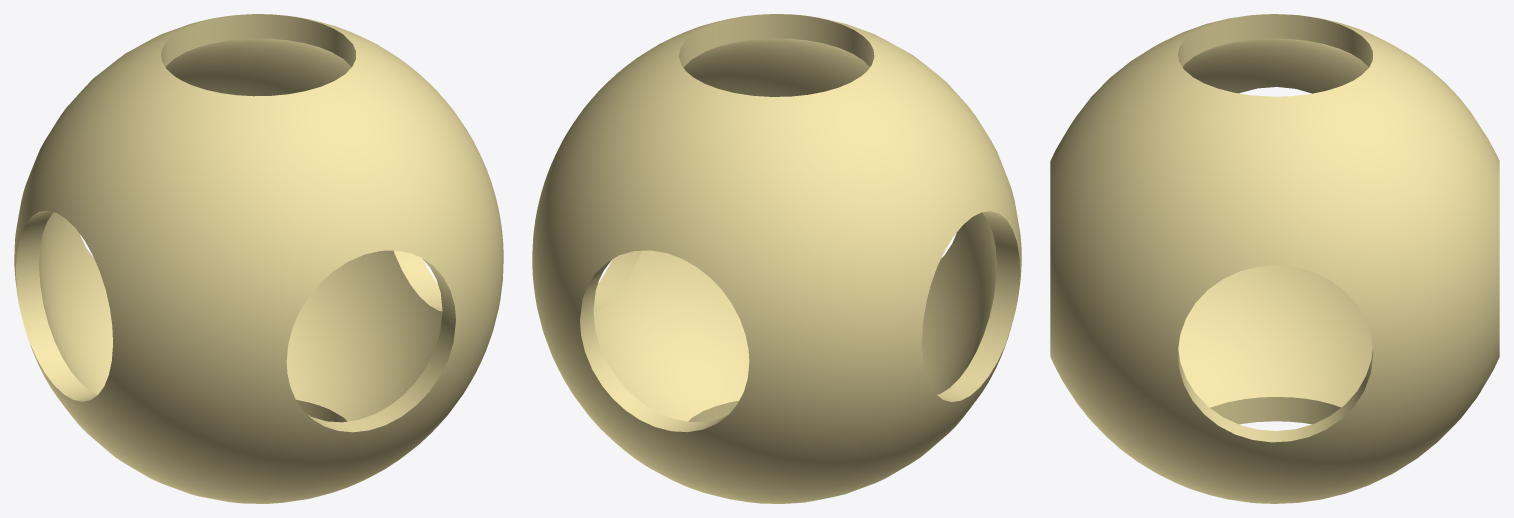
Rendered from balls_Component1 v2.fbx.
The picture shows the model from 3 angles, left to right: view 1: azimuth 30°, elevation 25°; view 2: azimuth 150°, elevation 25°; view 3: azimuth 270°, elevation 25°; orthographic projection.
Parts seen in each view (by area): view 1: Body1; view 2: Body1; view 3: Body1.
Part boxes in pixels (box(x1,y1,x2,y2)): Body1: box(14, 14, 503, 503); Body1: box(532, 14, 1021, 503); Body1: box(1050, 14, 1499, 503).
Bounding box in the file's own units: 91.87 × 92.04 × 91.94.
